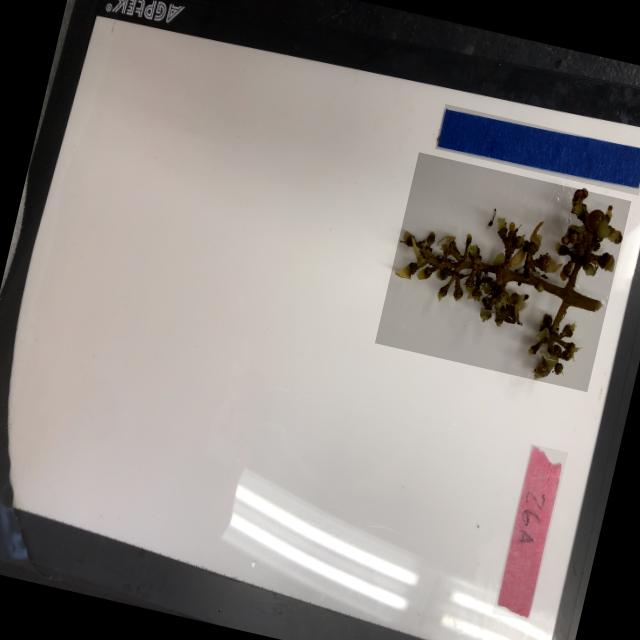index: (491, 444, 566, 622)
measure_label: (433, 103, 640, 195)
rachis_cluster: (373, 152, 630, 392)
